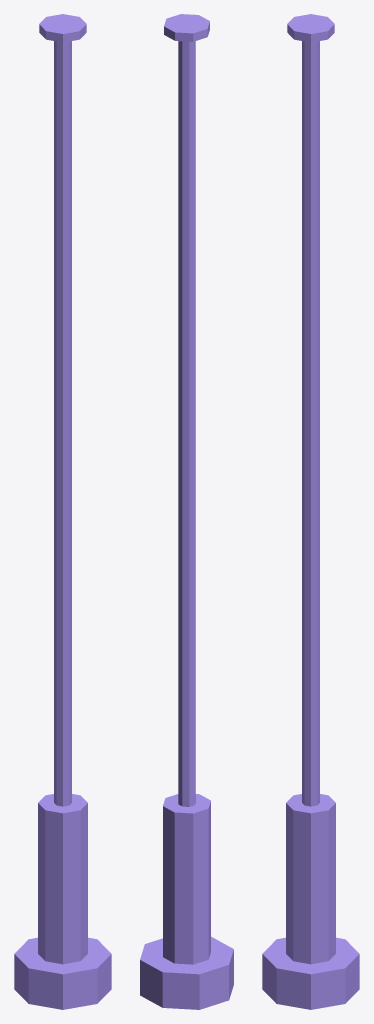
File: signpost_pole_5signs_a01.glb
The picture shows the model from 3 angles, left to right: view 1: azimuth 90°, elevation 25°; view 2: azimuth 150°, elevation 25°; view 3: azimuth 270°, elevation 25°; orthographic projection.
Parts seen in each view (by area): view 1: signpost 5; view 2: signpost 5; view 3: signpost 5.
Boxes of the visible parts, bbox=[...] form: signpost 5: bbox=[14, 14, 111, 1009]; signpost 5: bbox=[140, 14, 233, 1009]; signpost 5: bbox=[262, 14, 359, 1009].
Bounding box in the file's own units: 0.9939 × 10.89 × 0.9939.
